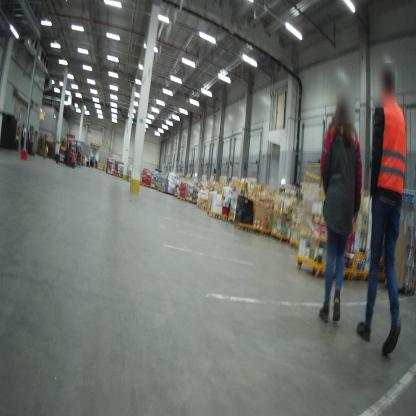pallet_truck: (19, 122, 37, 157), (54, 146, 76, 169)
